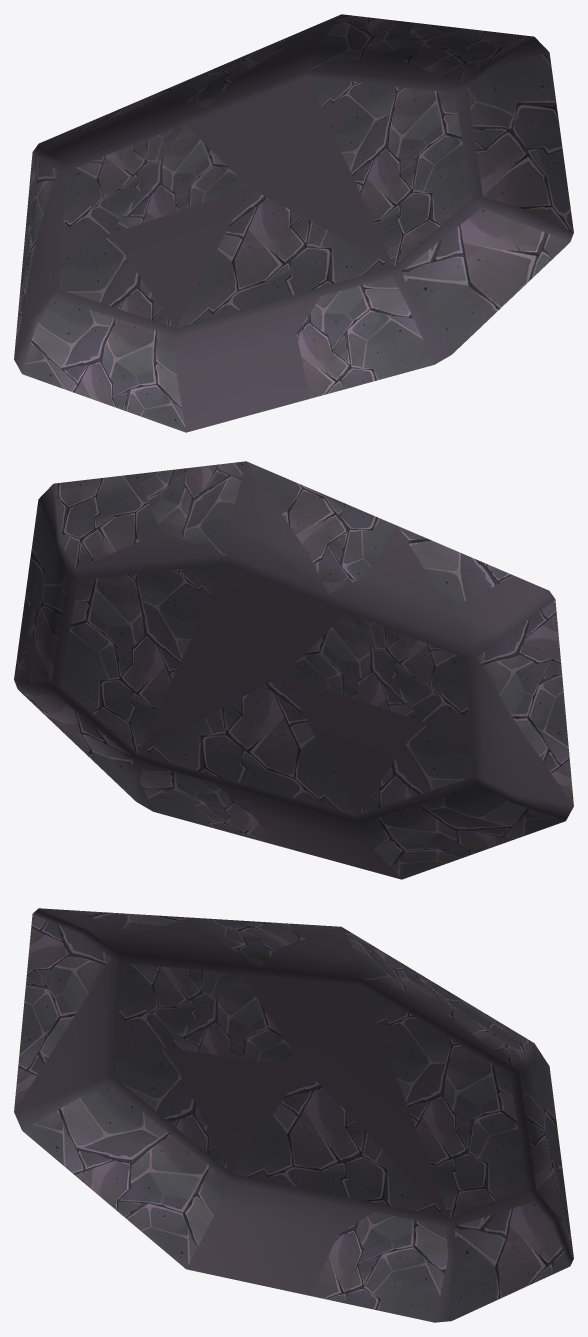
Rendered from ShortRock.fbx.
3 renders of one model, top to bottom at view 1: azimuth 30°, elevation 25°; view 2: azimuth 150°, elevation 25°; view 3: azimuth 330°, elevation 25°, orthographic.
Visible parts, largest first — view 1: RockTerrain3Wide; view 2: RockTerrain3Wide; view 3: RockTerrain3Wide.
Boxes of the visible parts, x1=… form: RockTerrain3Wide: x1=14, y1=14, x2=573, y2=432; RockTerrain3Wide: x1=14, y1=461, x2=573, y2=879; RockTerrain3Wide: x1=14, y1=908, x2=573, y2=1322.
Size of the model in its own units: 584 by 379 by 50.
